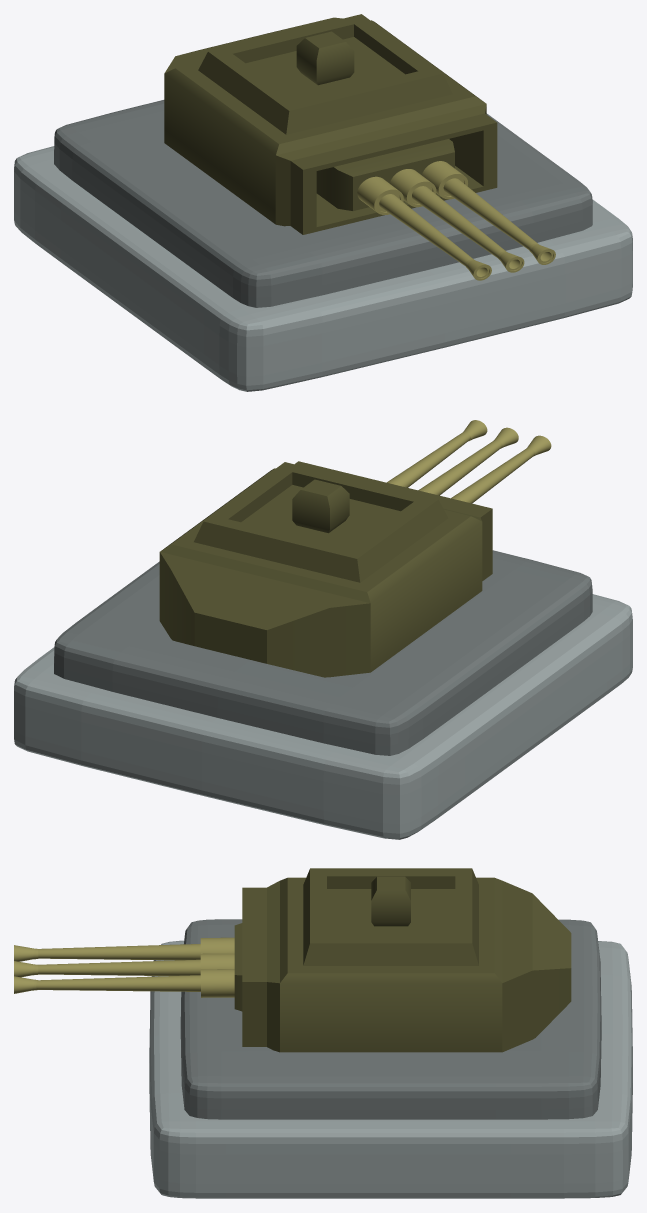
File: VastaCannon3.fbx
3 views of the same model, one above another, from view 1: azimuth 30°, elevation 25°; view 2: azimuth 150°, elevation 25°; view 3: azimuth 270°, elevation 25° (orthographic).
Parts seen in each view (by area): view 1: mark 3 roots 2, Mark 1 body.002, mark 3 roots 1, mark 3 gun 3, mark 3 gun 2, mark 3 gun1; view 2: mark 3 roots 2, Mark 1 body.002, mark 3 roots 1, mark 3 gun 3, mark 3 gun1, mark 3 gun 2; view 3: Mark 1 body.002, mark 3 roots 2, mark 3 roots 1, mark 3 gun1, mark 3 gun 3, mark 3 gun 2.
Part boxes in pixels (box(x1,y1,x2,y2)): mark 3 roots 2: box(14, 146, 632, 391); Mark 1 body.002: box(164, 14, 497, 234); mark 3 roots 1: box(54, 100, 592, 307); mark 3 gun 3: box(357, 176, 473, 265); mark 3 gun 2: box(390, 169, 505, 257); mark 3 gun1: box(422, 161, 538, 249); mark 3 roots 2: box(14, 594, 632, 839); Mark 1 body.002: box(159, 461, 492, 677); mark 3 roots 1: box(54, 550, 592, 755); mark 3 gun 3: box(451, 448, 534, 503); mark 3 gun1: box(387, 432, 470, 487); mark 3 gun 2: box(418, 440, 502, 495); Mark 1 body.002: box(234, 868, 571, 1052); mark 3 roots 2: box(149, 940, 632, 1198); mark 3 roots 1: box(180, 919, 601, 1119); mark 3 gun1: box(36, 969, 234, 997); mark 3 gun 3: box(38, 937, 234, 960); mark 3 gun 2: box(38, 953, 234, 975).
Bounding box in the file's own units: 234 × 124 × 312.
